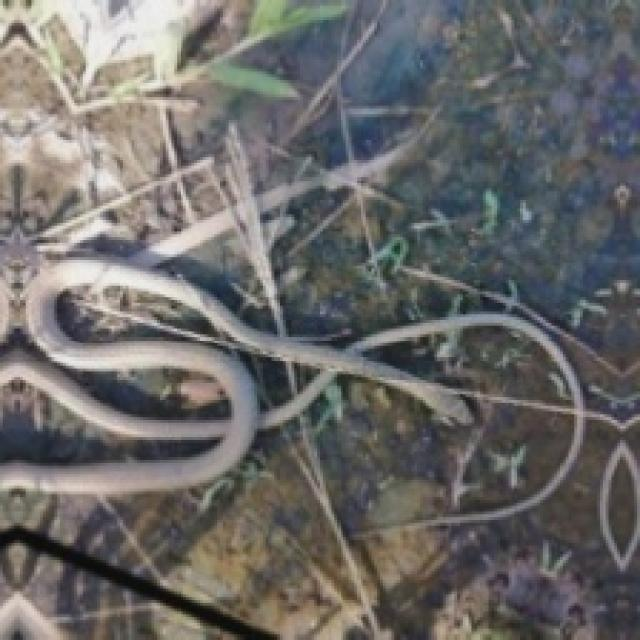paradise tree snake: (0, 259, 474, 494), (364, 315, 586, 527)
